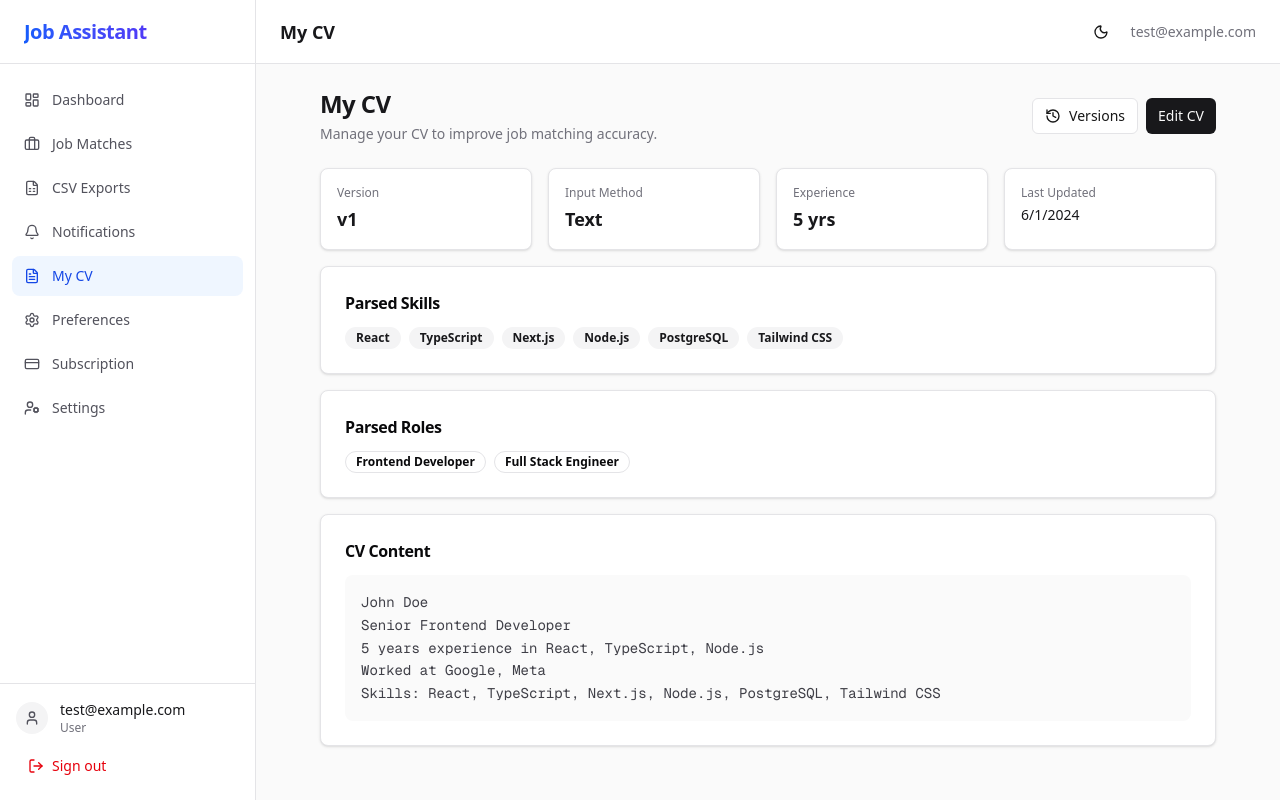
it: CV page › 'Cancel' exits edit mode
This screenshot has width=1280, height=800.
Click the button "Edit CV" at coordinates (1181, 116), box [1146,98,1216,134]
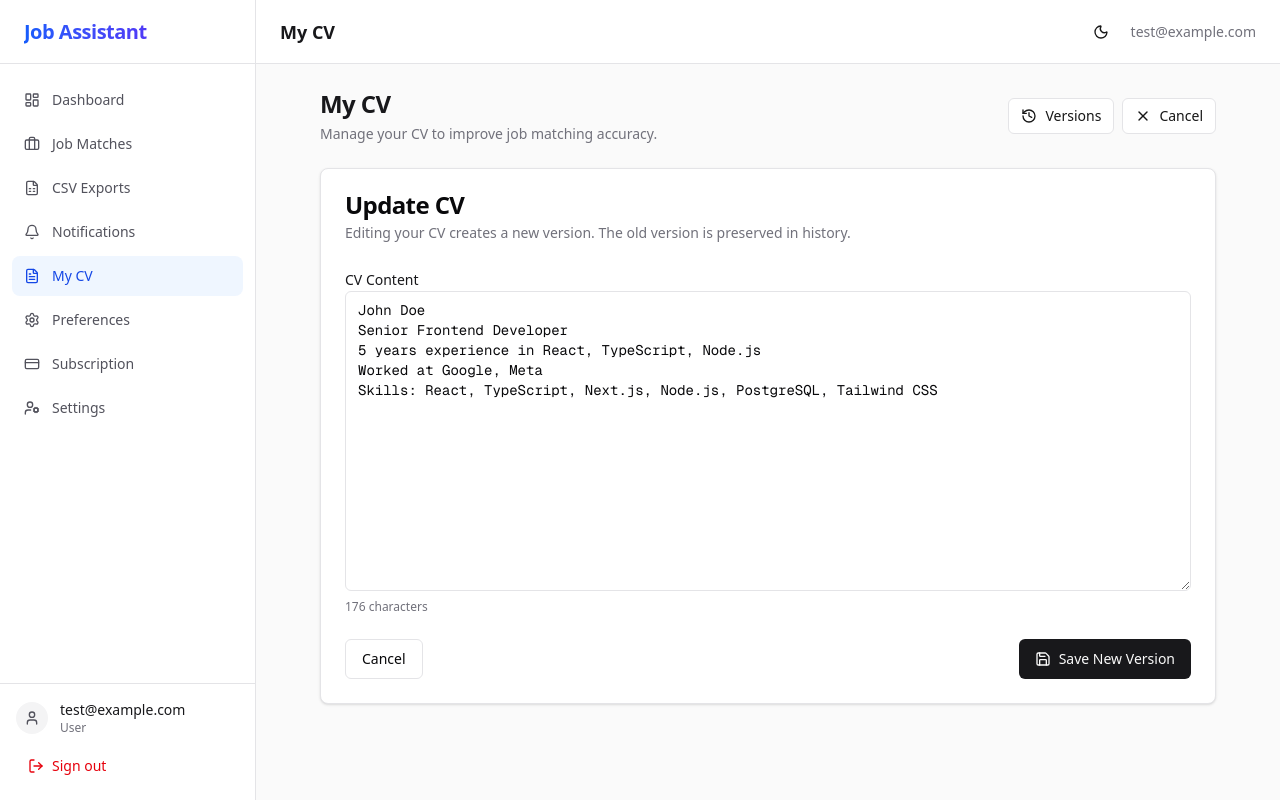
Now the text box with id "cvText" is shown, box [345,291,1191,591]
Click the 1st button "Cancel" at coordinates (1169, 116), box [1122,98,1216,134]
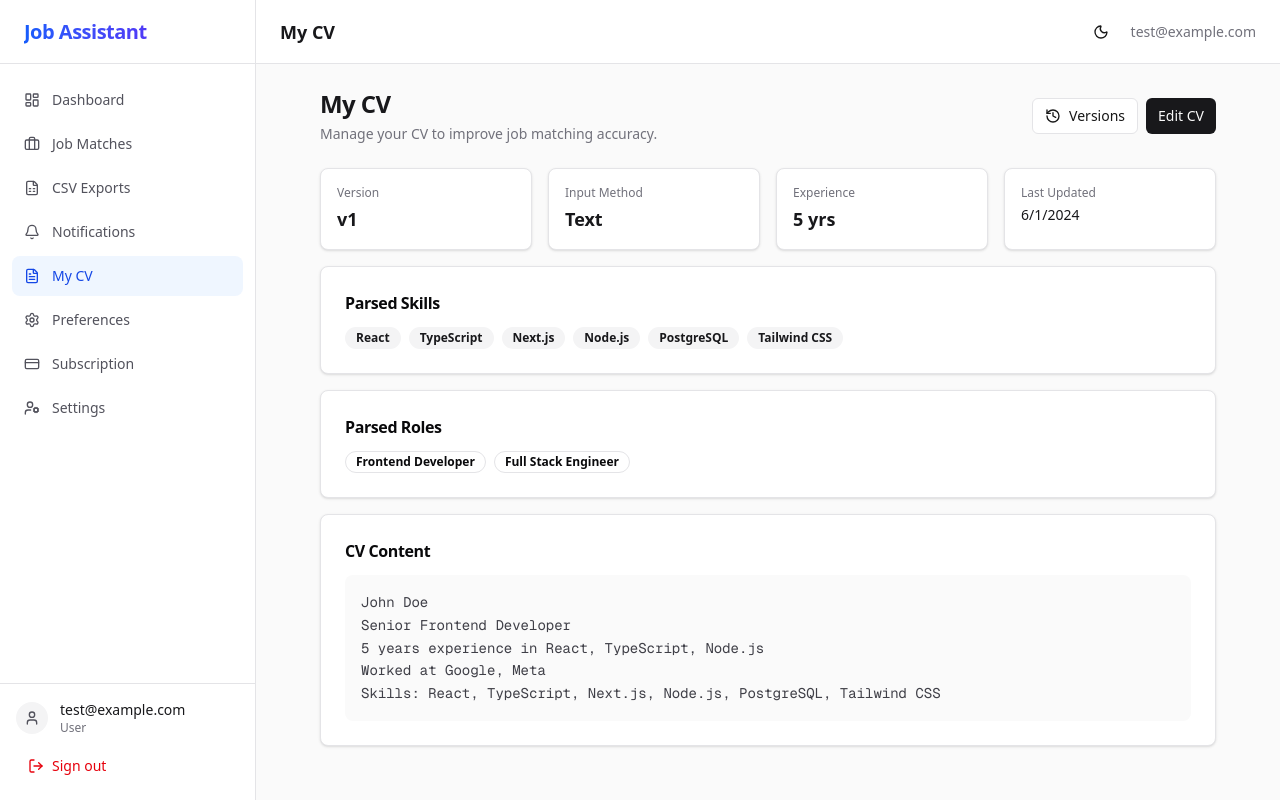
Now the button "Edit CV" is shown, box [1146,98,1216,134]
